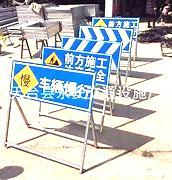sign: (10, 71, 94, 101), (44, 48, 108, 69), (94, 18, 137, 28)
